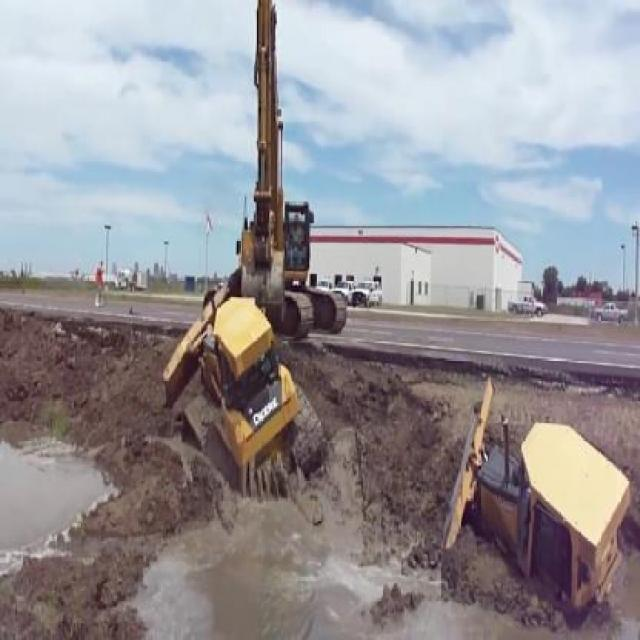Excavator: (236, 0, 346, 343)
